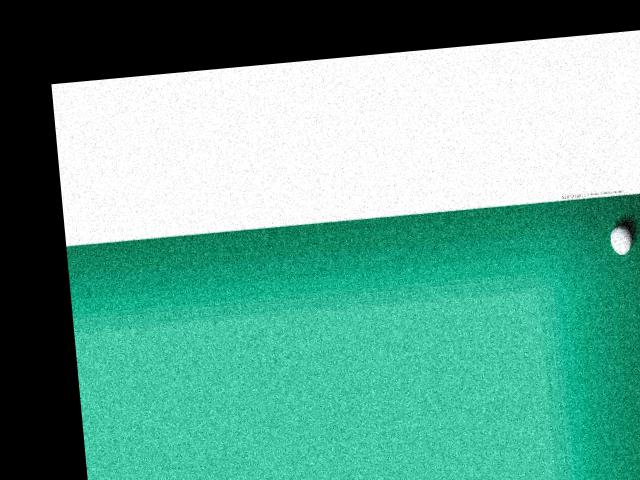egg: (608, 224, 631, 255)
